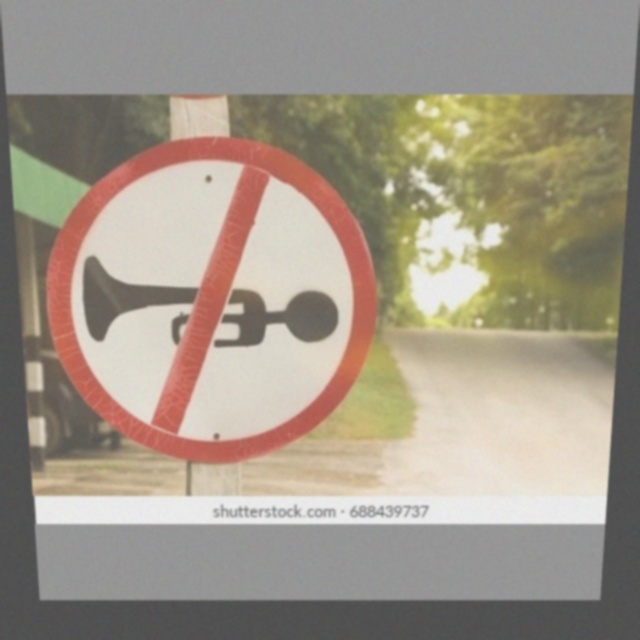Horn_Prohibited: (53, 153, 367, 445)
